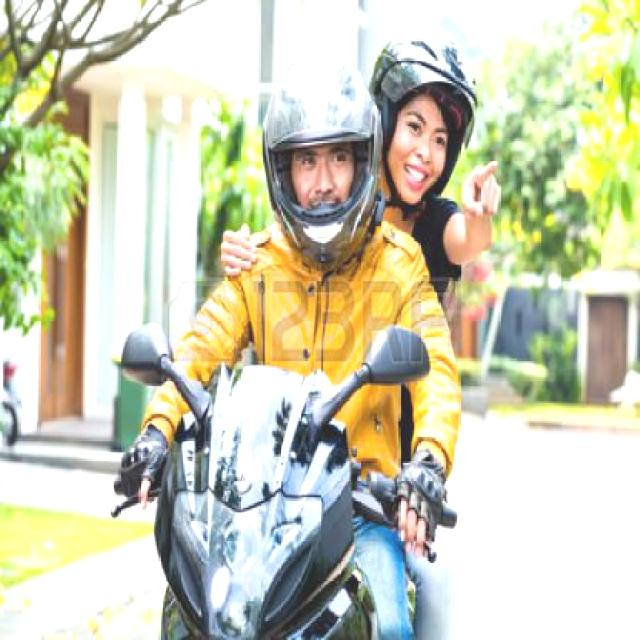With Helmet: (259, 49, 384, 276), (372, 26, 480, 203)
